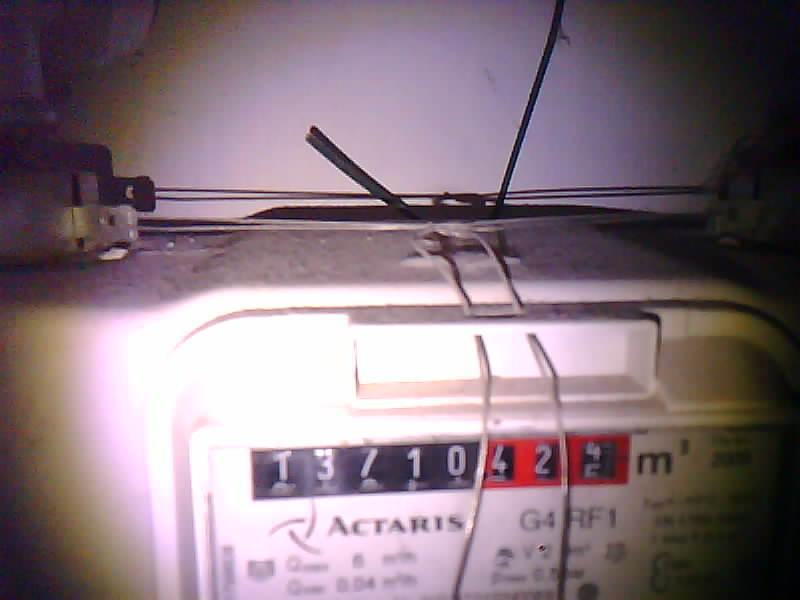nums: (247, 432, 634, 489)
